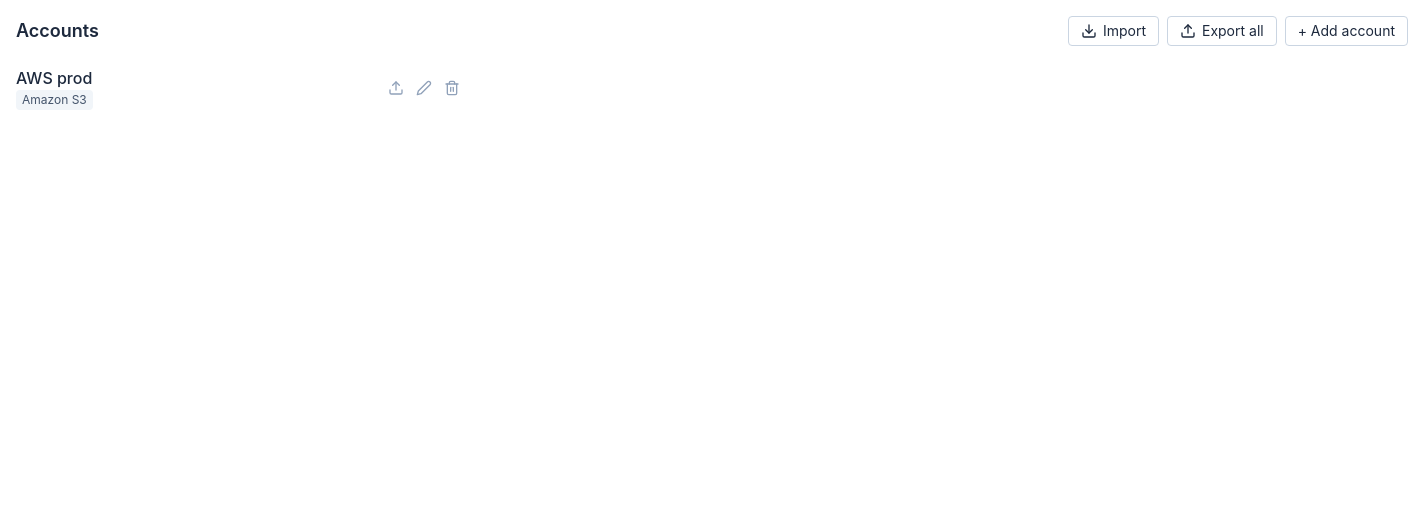
Test: ConnectionsScreen › opens the add-account form
The width and height of the screenshot is (1425, 527).
Click the button "+ Add account": x=1346, y=31 [1285,16,1408,46]
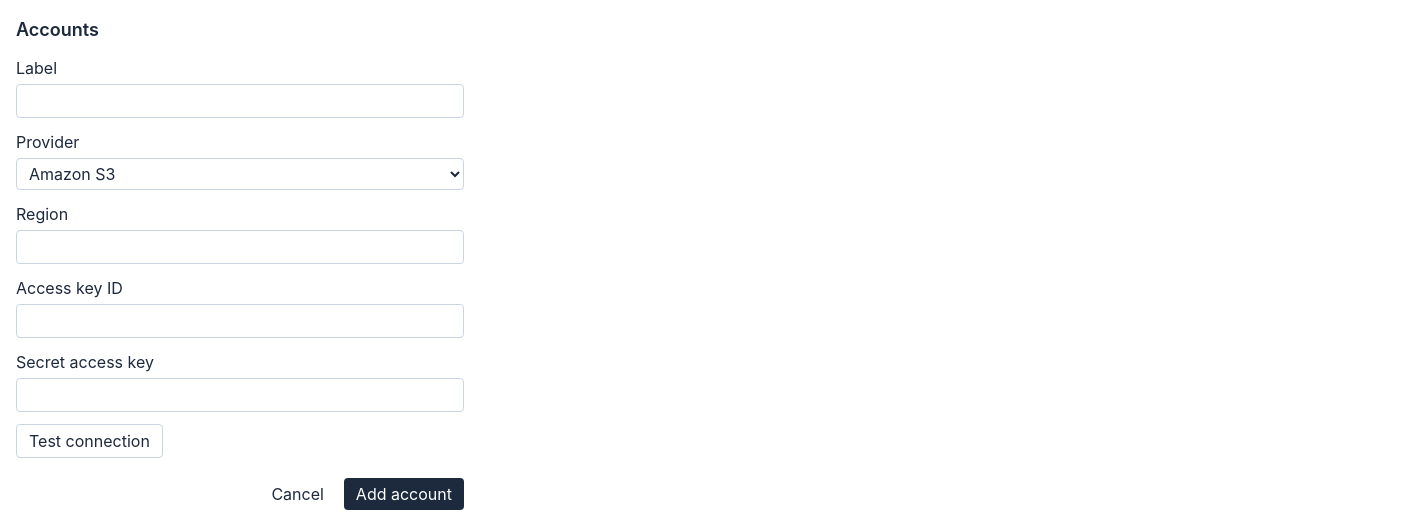
Check: the field labelled "Label" is shown, box [16,84,464,118]
